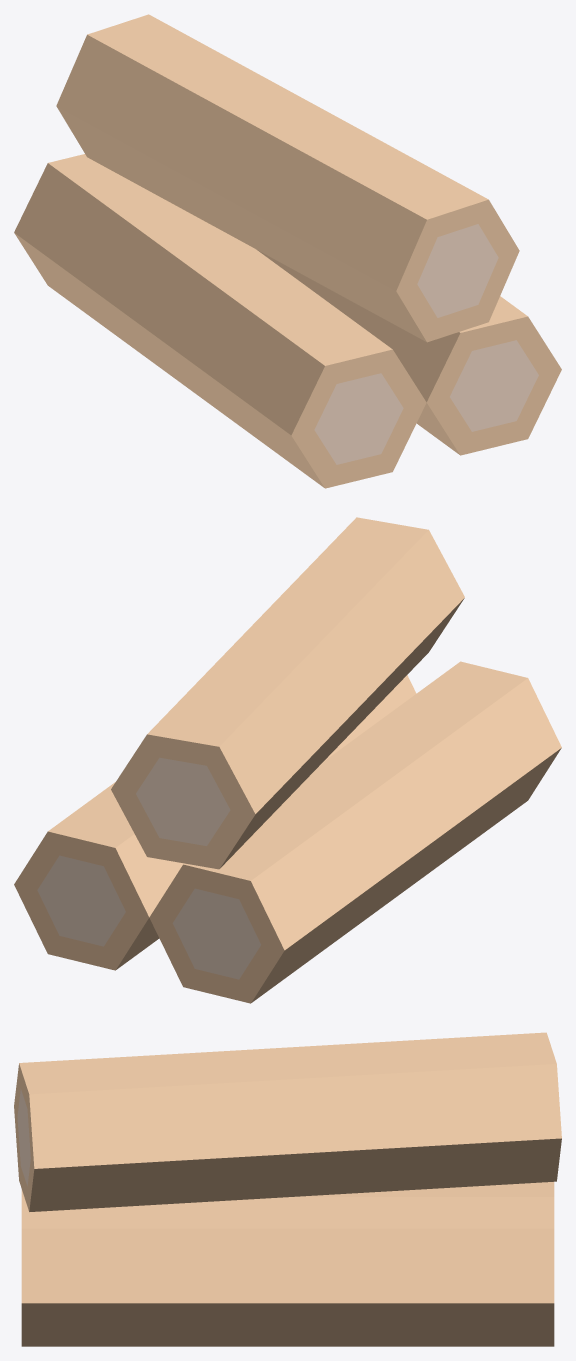
File: logs_stack.glb
3 renders of one model, top to bottom at view 1: azimuth 30°, elevation 25°; view 2: azimuth 150°, elevation 25°; view 3: azimuth 270°, elevation 25°, orthographic. The views are drawn at different scales.
Parts seen in each view (by area): view 1: logs_stack; view 2: logs_stack; view 3: logs_stack.
Part boxes in pixels (x1,y1,x2,y2): logs_stack: (14, 14, 561, 488); logs_stack: (14, 517, 561, 1003); logs_stack: (14, 1032, 561, 1346).
Bounding box in the file's own units: 0.4 × 0.3464 × 0.7306.
